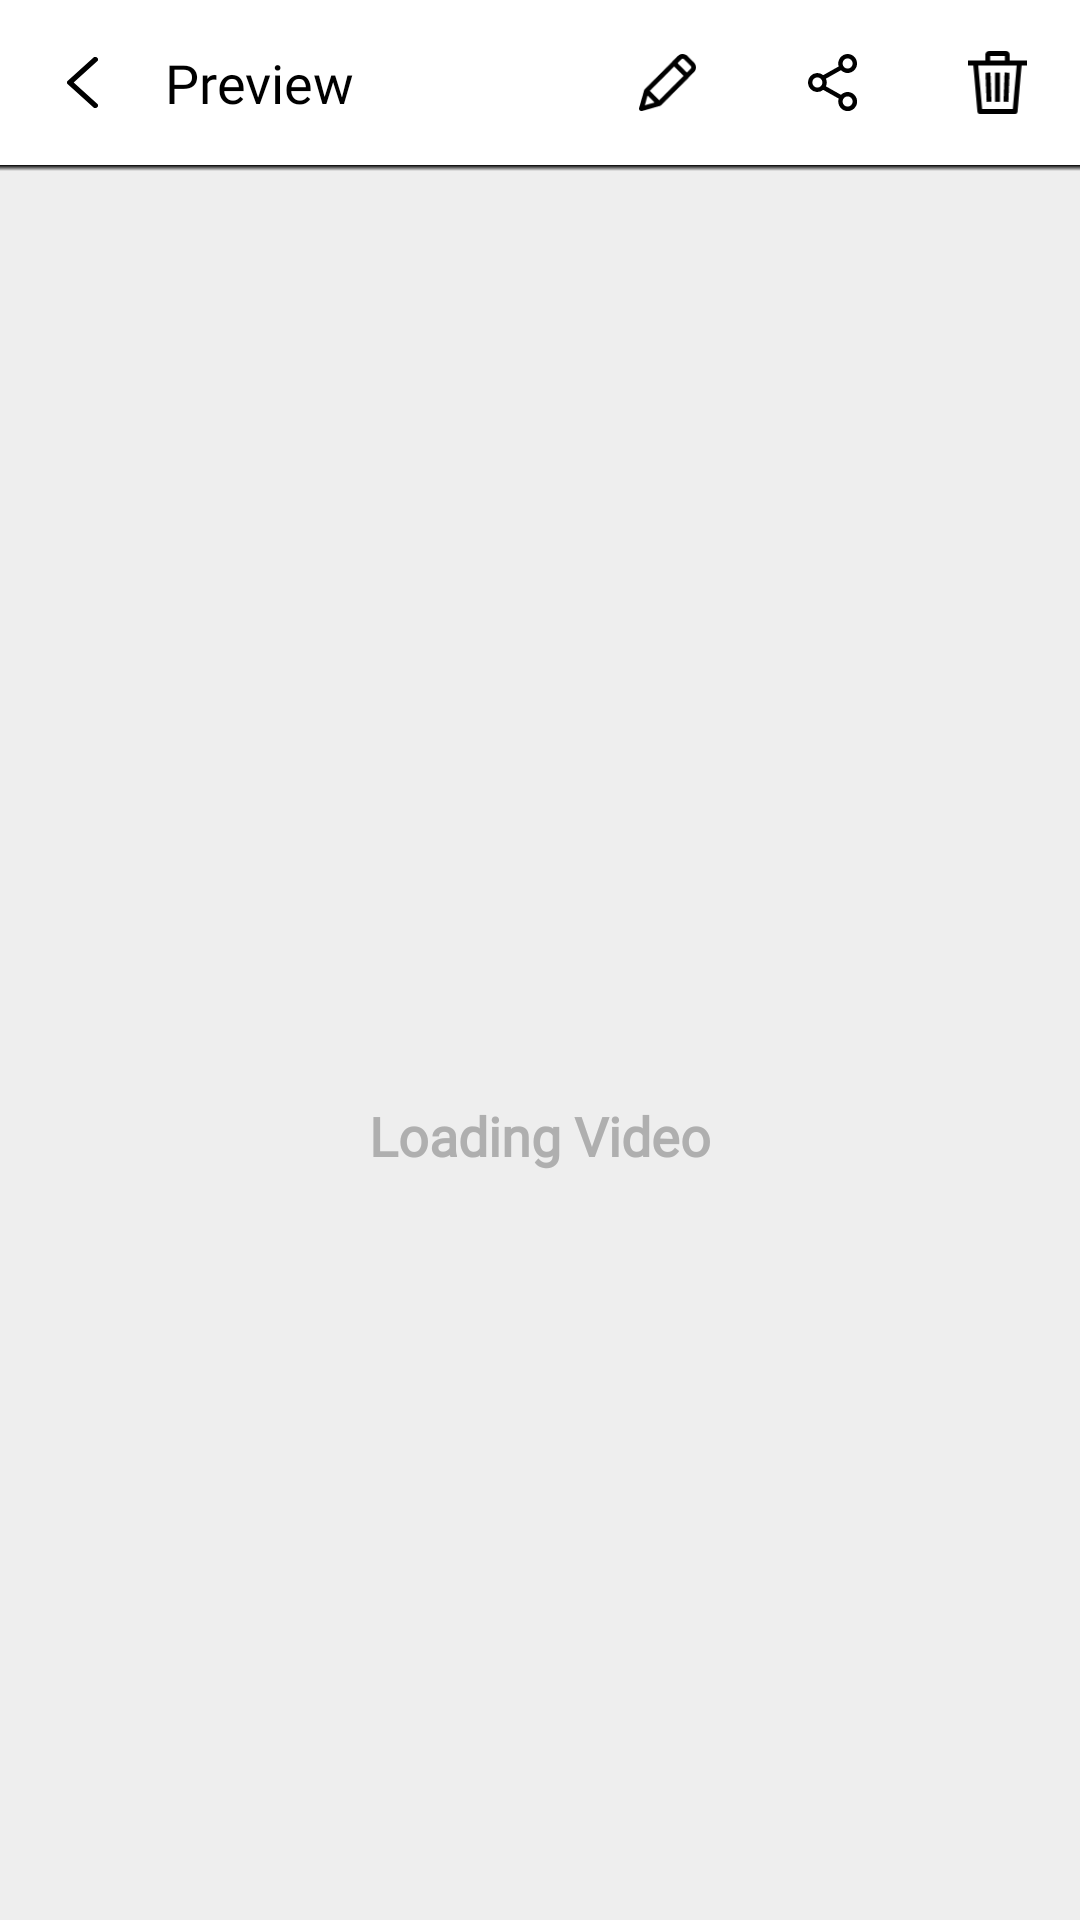

Point at icon controls on the screen. Image size 1080×1920, points as (x,y).
back editscreen: (82,82)
delete: (997,82)
edit: (667,82)
share symbol: (832,82)
